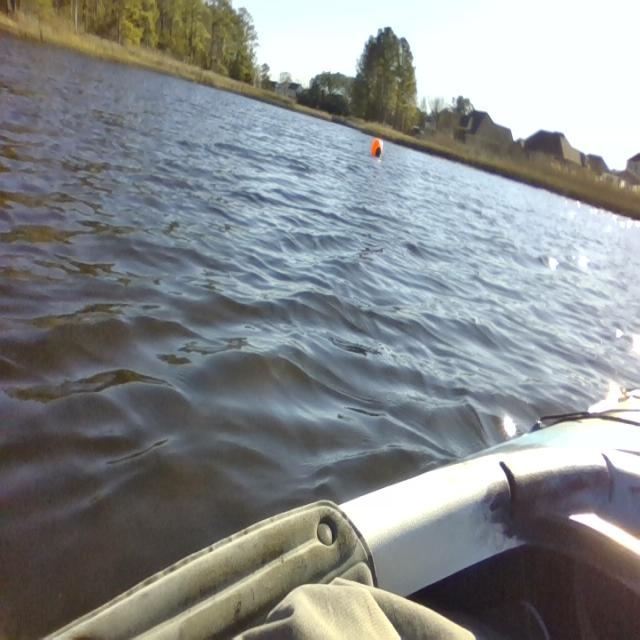Buoy: (366, 132, 388, 164)
